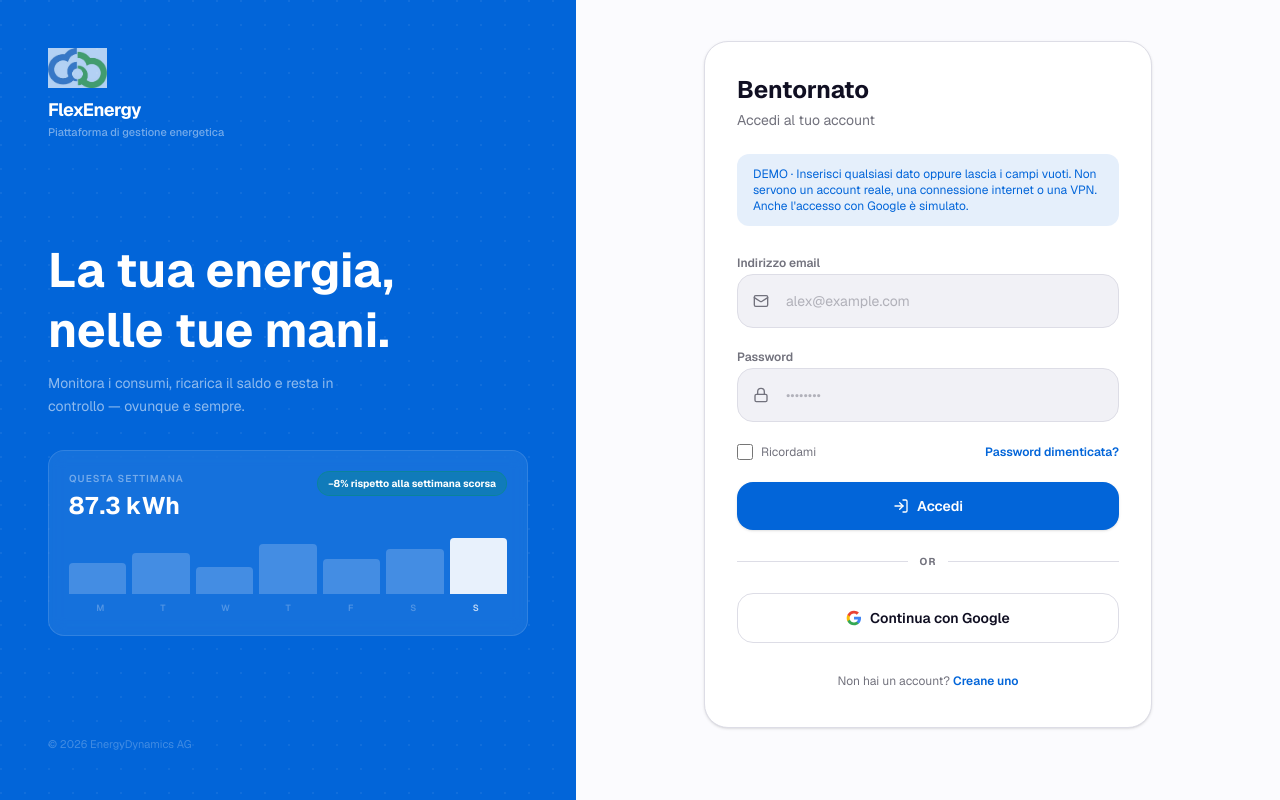
Test: demo routes without a data connection › renders /contracts/300/usage with local data
What coordinates should you click on to do the following:
click the button "Accedi"
I would click on:
 (928, 506)
Its box is [737,482,1119,530].
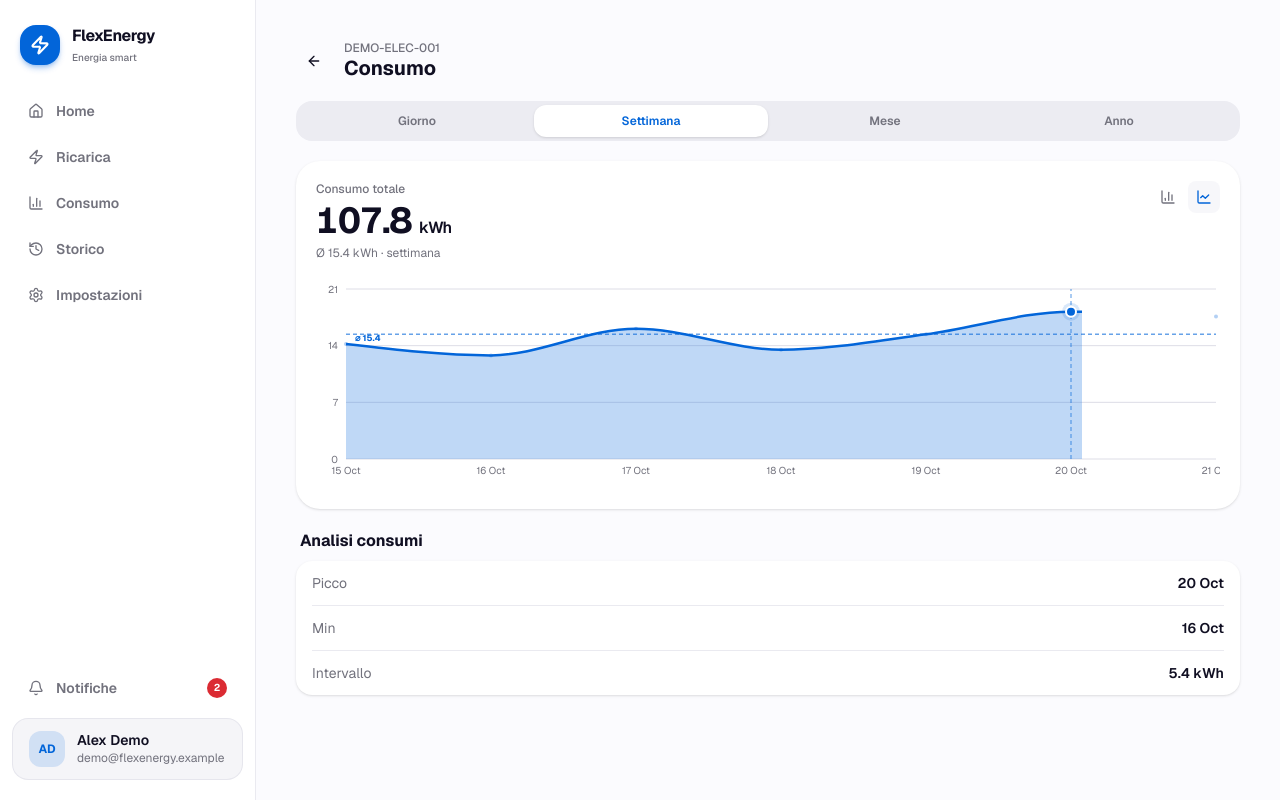
Expected: the button "Home" is shown, [12,89,243,133]
Expected: the heading "Consumo" is shown, [344,56,440,81]
